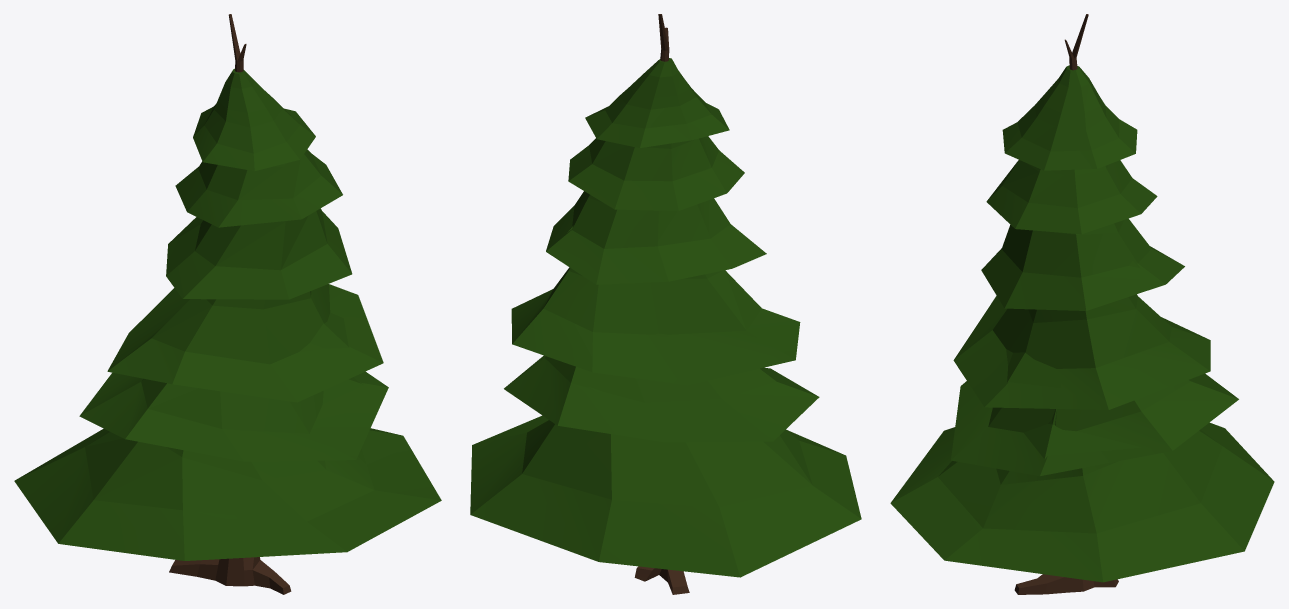
File: low_poly_pine_tree2.glb
3 views of the same model, side by side, from view 1: azimuth 30°, elevation 25°; view 2: azimuth 150°, elevation 25°; view 3: azimuth 270°, elevation 25° (orthographic).
Visible parts, largest first — view 1: pinetree_dark; view 2: pinetree_dark; view 3: pinetree_dark.
Boxes of the visible parts, <box> form: pinetree_dark: <box>14,14,441,594</box>; pinetree_dark: <box>470,14,861,594</box>; pinetree_dark: <box>890,14,1274,594</box>.
Bounding box in the file's own units: 6.9 × 10 × 6.14.
